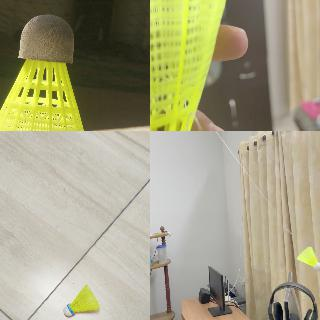shuttlecock: (0, 14, 97, 130), (150, 0, 231, 130), (64, 284, 98, 318), (296, 246, 319, 270)
